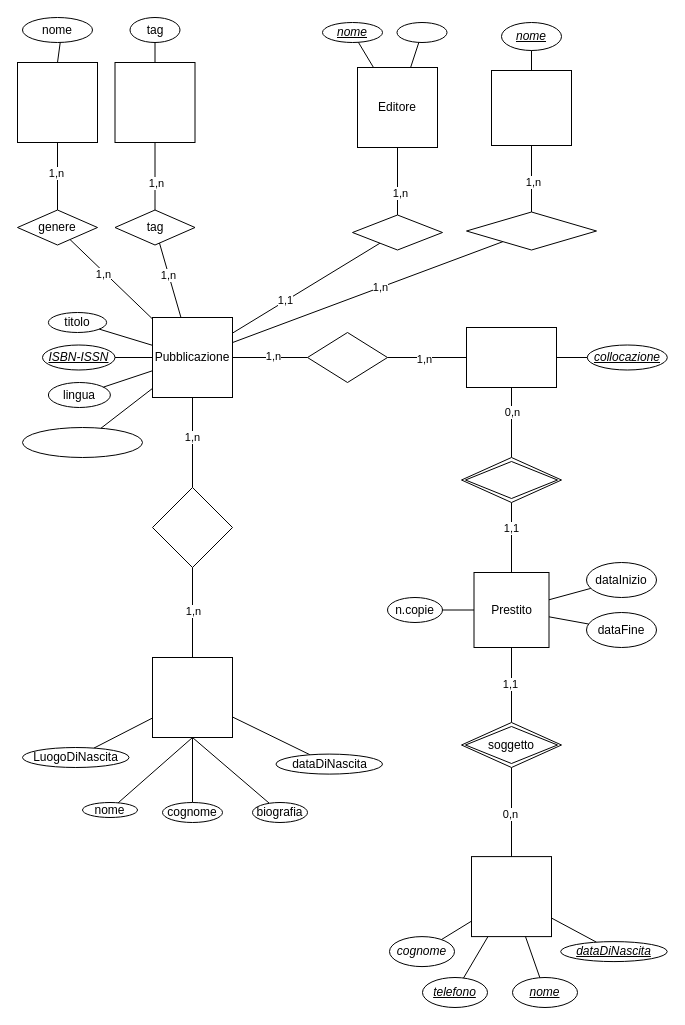
This 685x1025 diagram has some shape labels left out. Each missing label, with the box of its shape:
Autore: (152, 656, 232, 738)
Categoria: (16, 62, 98, 142)
Collezione: (490, 70, 572, 146)
copia: (306, 332, 388, 382)
data Pubblicazione: (22, 426, 142, 458)
oggetto: (460, 456, 562, 502)
PaoleChiave: (114, 62, 195, 142)
pubblica: (352, 214, 442, 250)
raggruppamento: (466, 211, 596, 250)
scrive: (152, 486, 232, 568)
sede: (396, 22, 447, 42)
Utente: (470, 856, 552, 937)
Volume: (466, 326, 556, 388)
